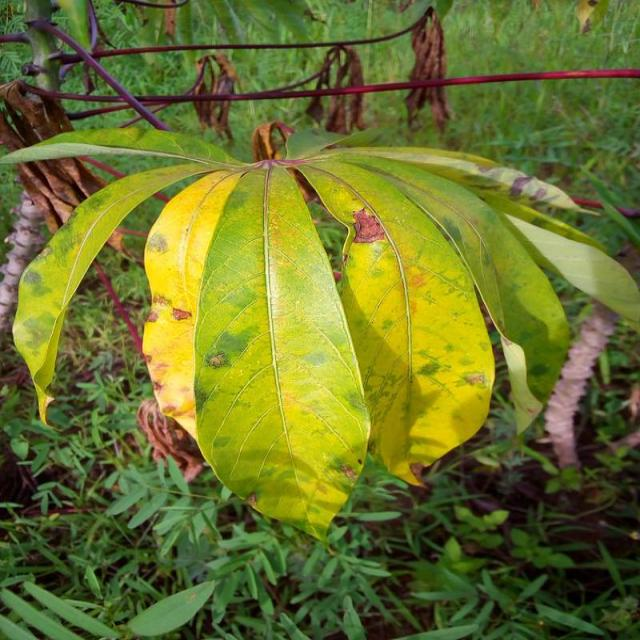Mosaico: (64, 122, 609, 504)
